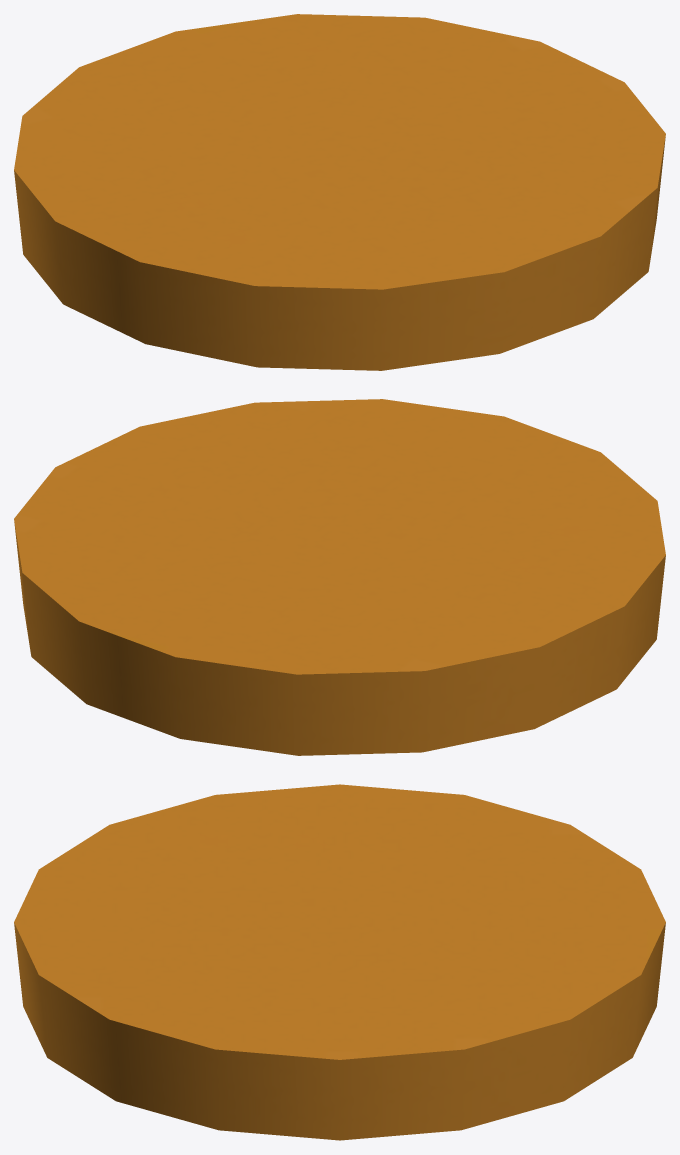
File: eff_mesh_j_yuhu_pifu_01.glb
3 views of the same model, one above another, from view 1: azimuth 30°, elevation 25°; view 2: azimuth 150°, elevation 25°; view 3: azimuth 270°, elevation 25° (orthographic).
Visible parts, largest first — view 1: eff_mesh_j_yuhu_pifu_01; view 2: eff_mesh_j_yuhu_pifu_01; view 3: eff_mesh_j_yuhu_pifu_01.
Part boxes in pixels (left/top/right/bottom): eff_mesh_j_yuhu_pifu_01: left=14, top=14, right=665, bottom=370; eff_mesh_j_yuhu_pifu_01: left=14, top=399, right=665, bottom=755; eff_mesh_j_yuhu_pifu_01: left=14, top=784, right=665, bottom=1140.
Size of the model in its own units: 0.1152 by 0.0165 by 0.1152.
1 material, 1 textured.
